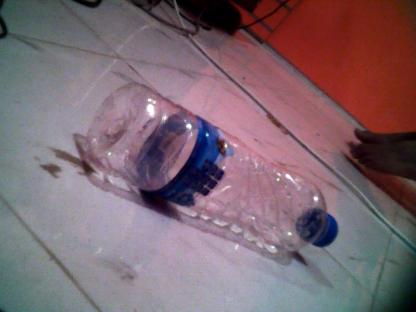Plastic Bottle: (75, 58, 350, 293)
